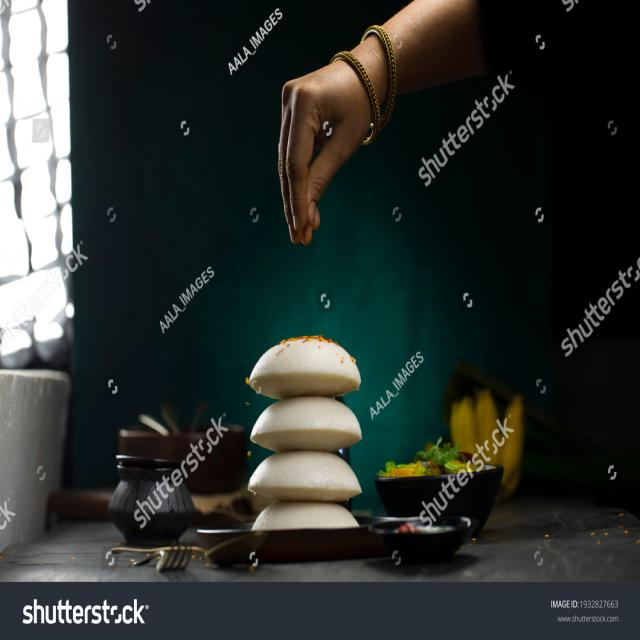IDLI: (248, 334, 362, 531)
